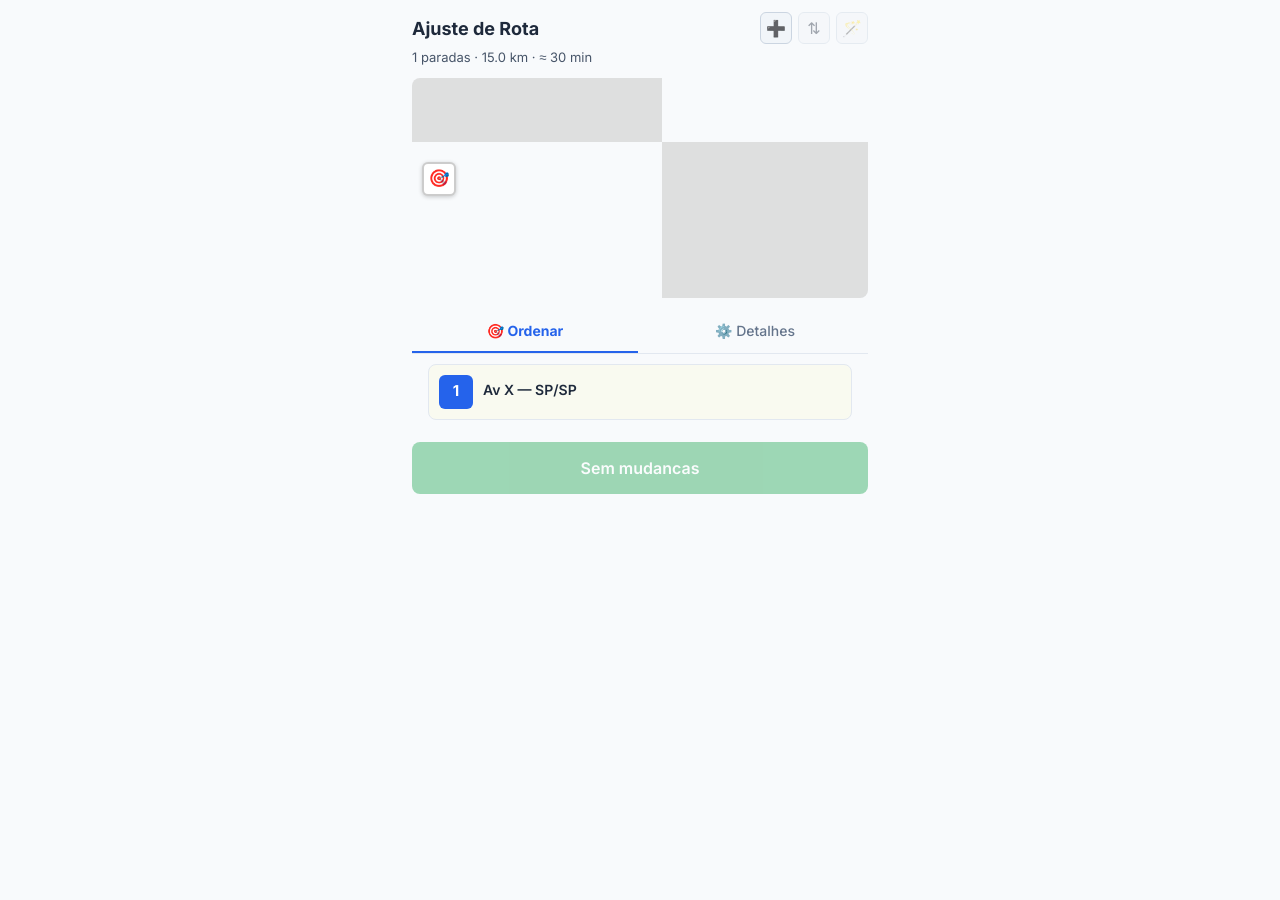
AjusteRotaPage — edicao via modal › salvar edicao habilita botao Salvar mudancas
Expected: the heading "Ajuste de Rota" is shown, [412,14,539,42]
Click the tab "⚙️ Detalhes": (755, 331) [642,310,868,352]
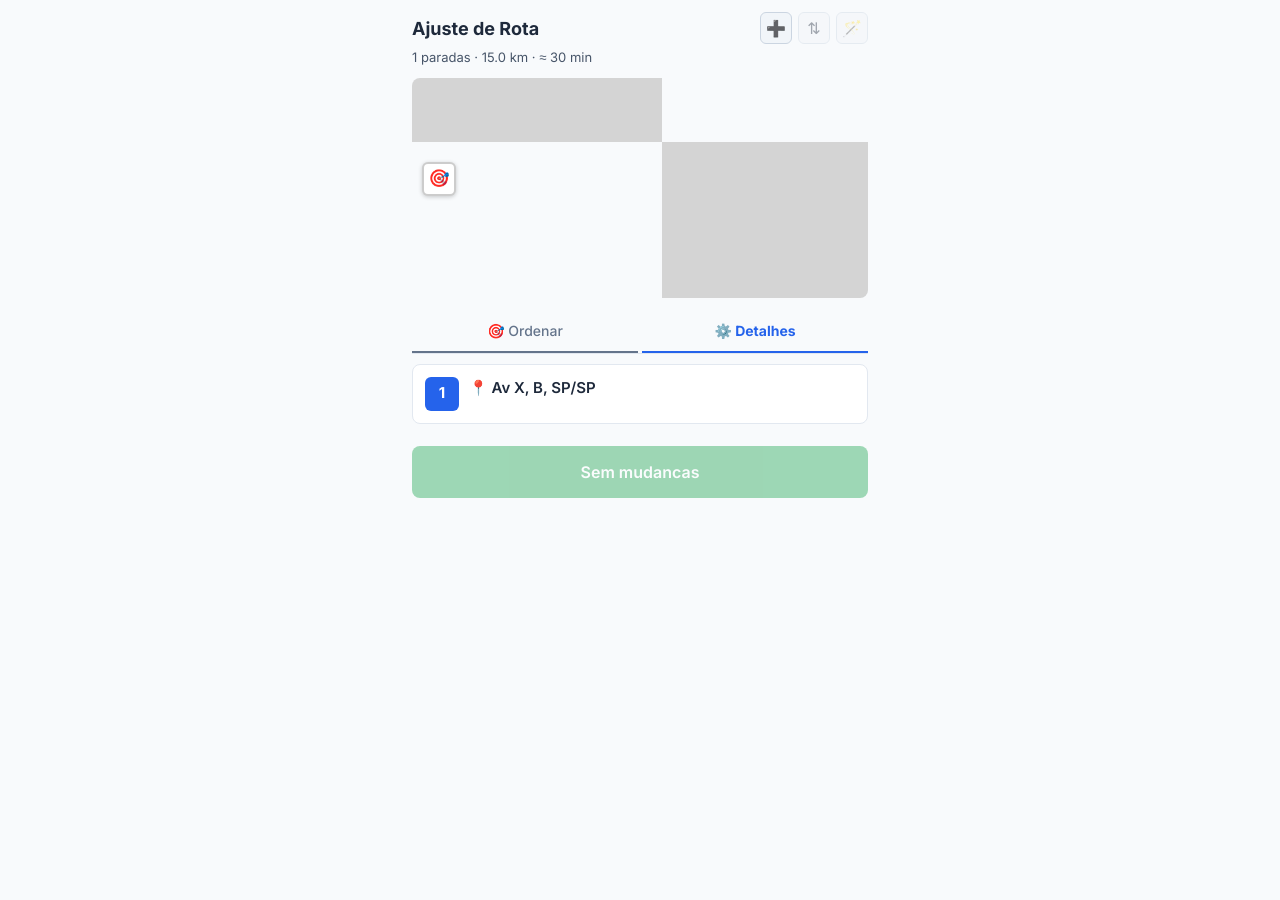
Click the button with test id "tijolinho-detalhes-1": (442, 394) [412,364,868,424]
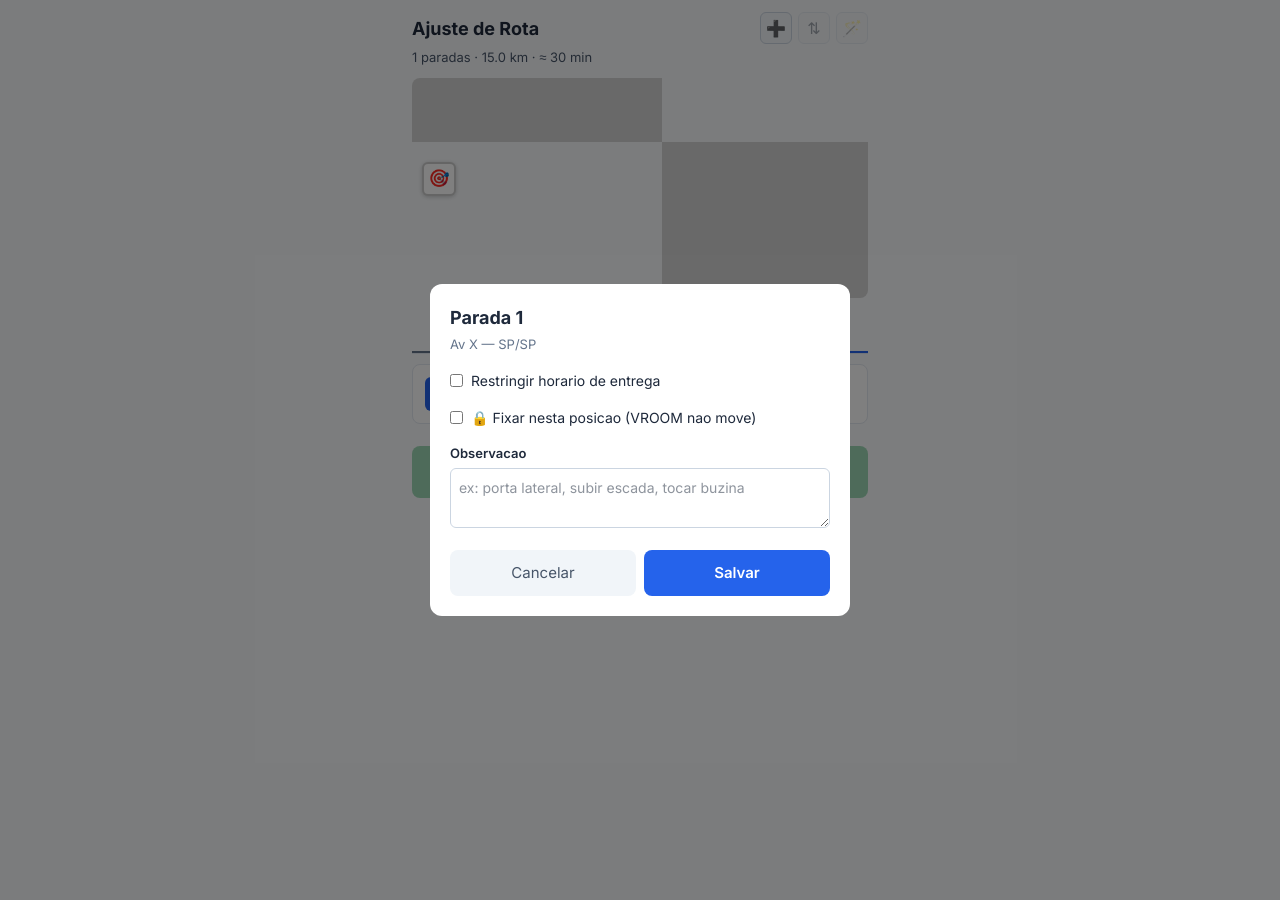
Note: Marcar fixada e Salvar
Click the checkbox labelled "🔒 Fixar nesta posicao (VROOM nao move)": (456, 418) [450,411,463,424]
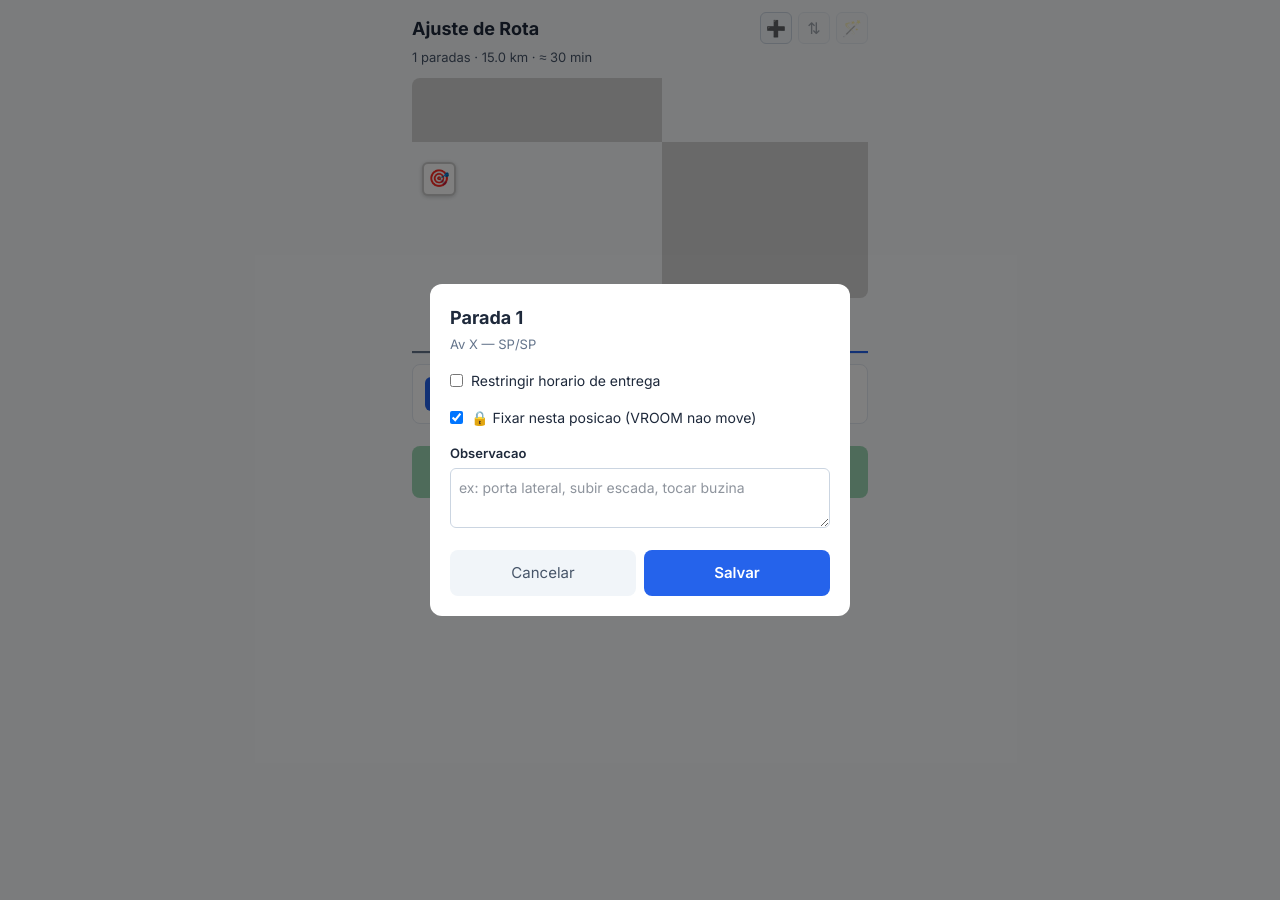
Click the button "Salvar": (737, 573) [644,550,830,596]
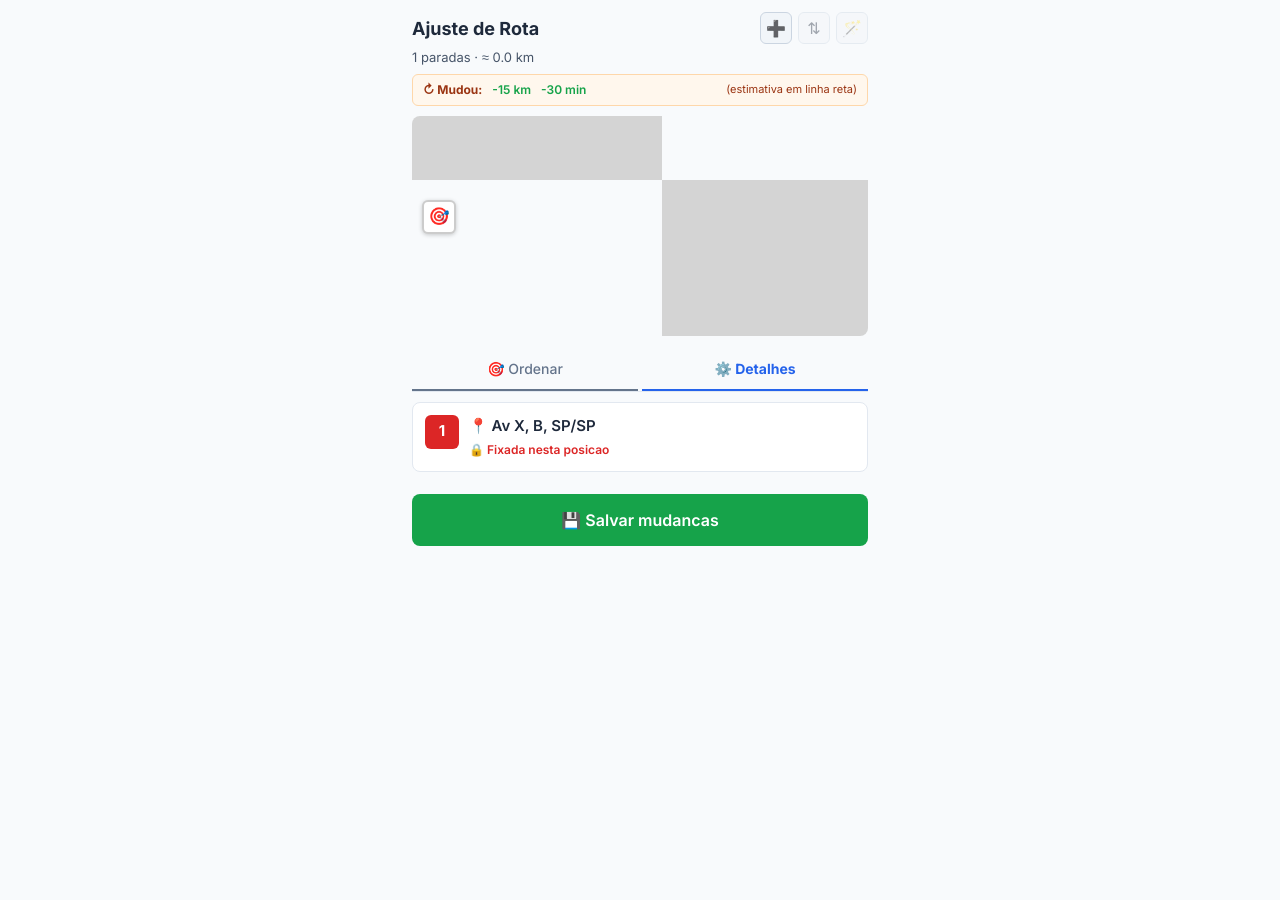
Expected: the button "💾 Salvar mudancas" is enabled, [412,494,868,546]
